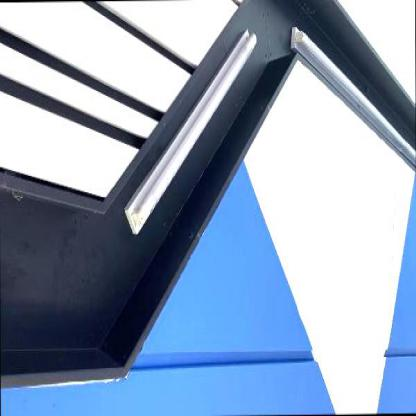light_off: (121, 16, 264, 250), (286, 13, 415, 210)
